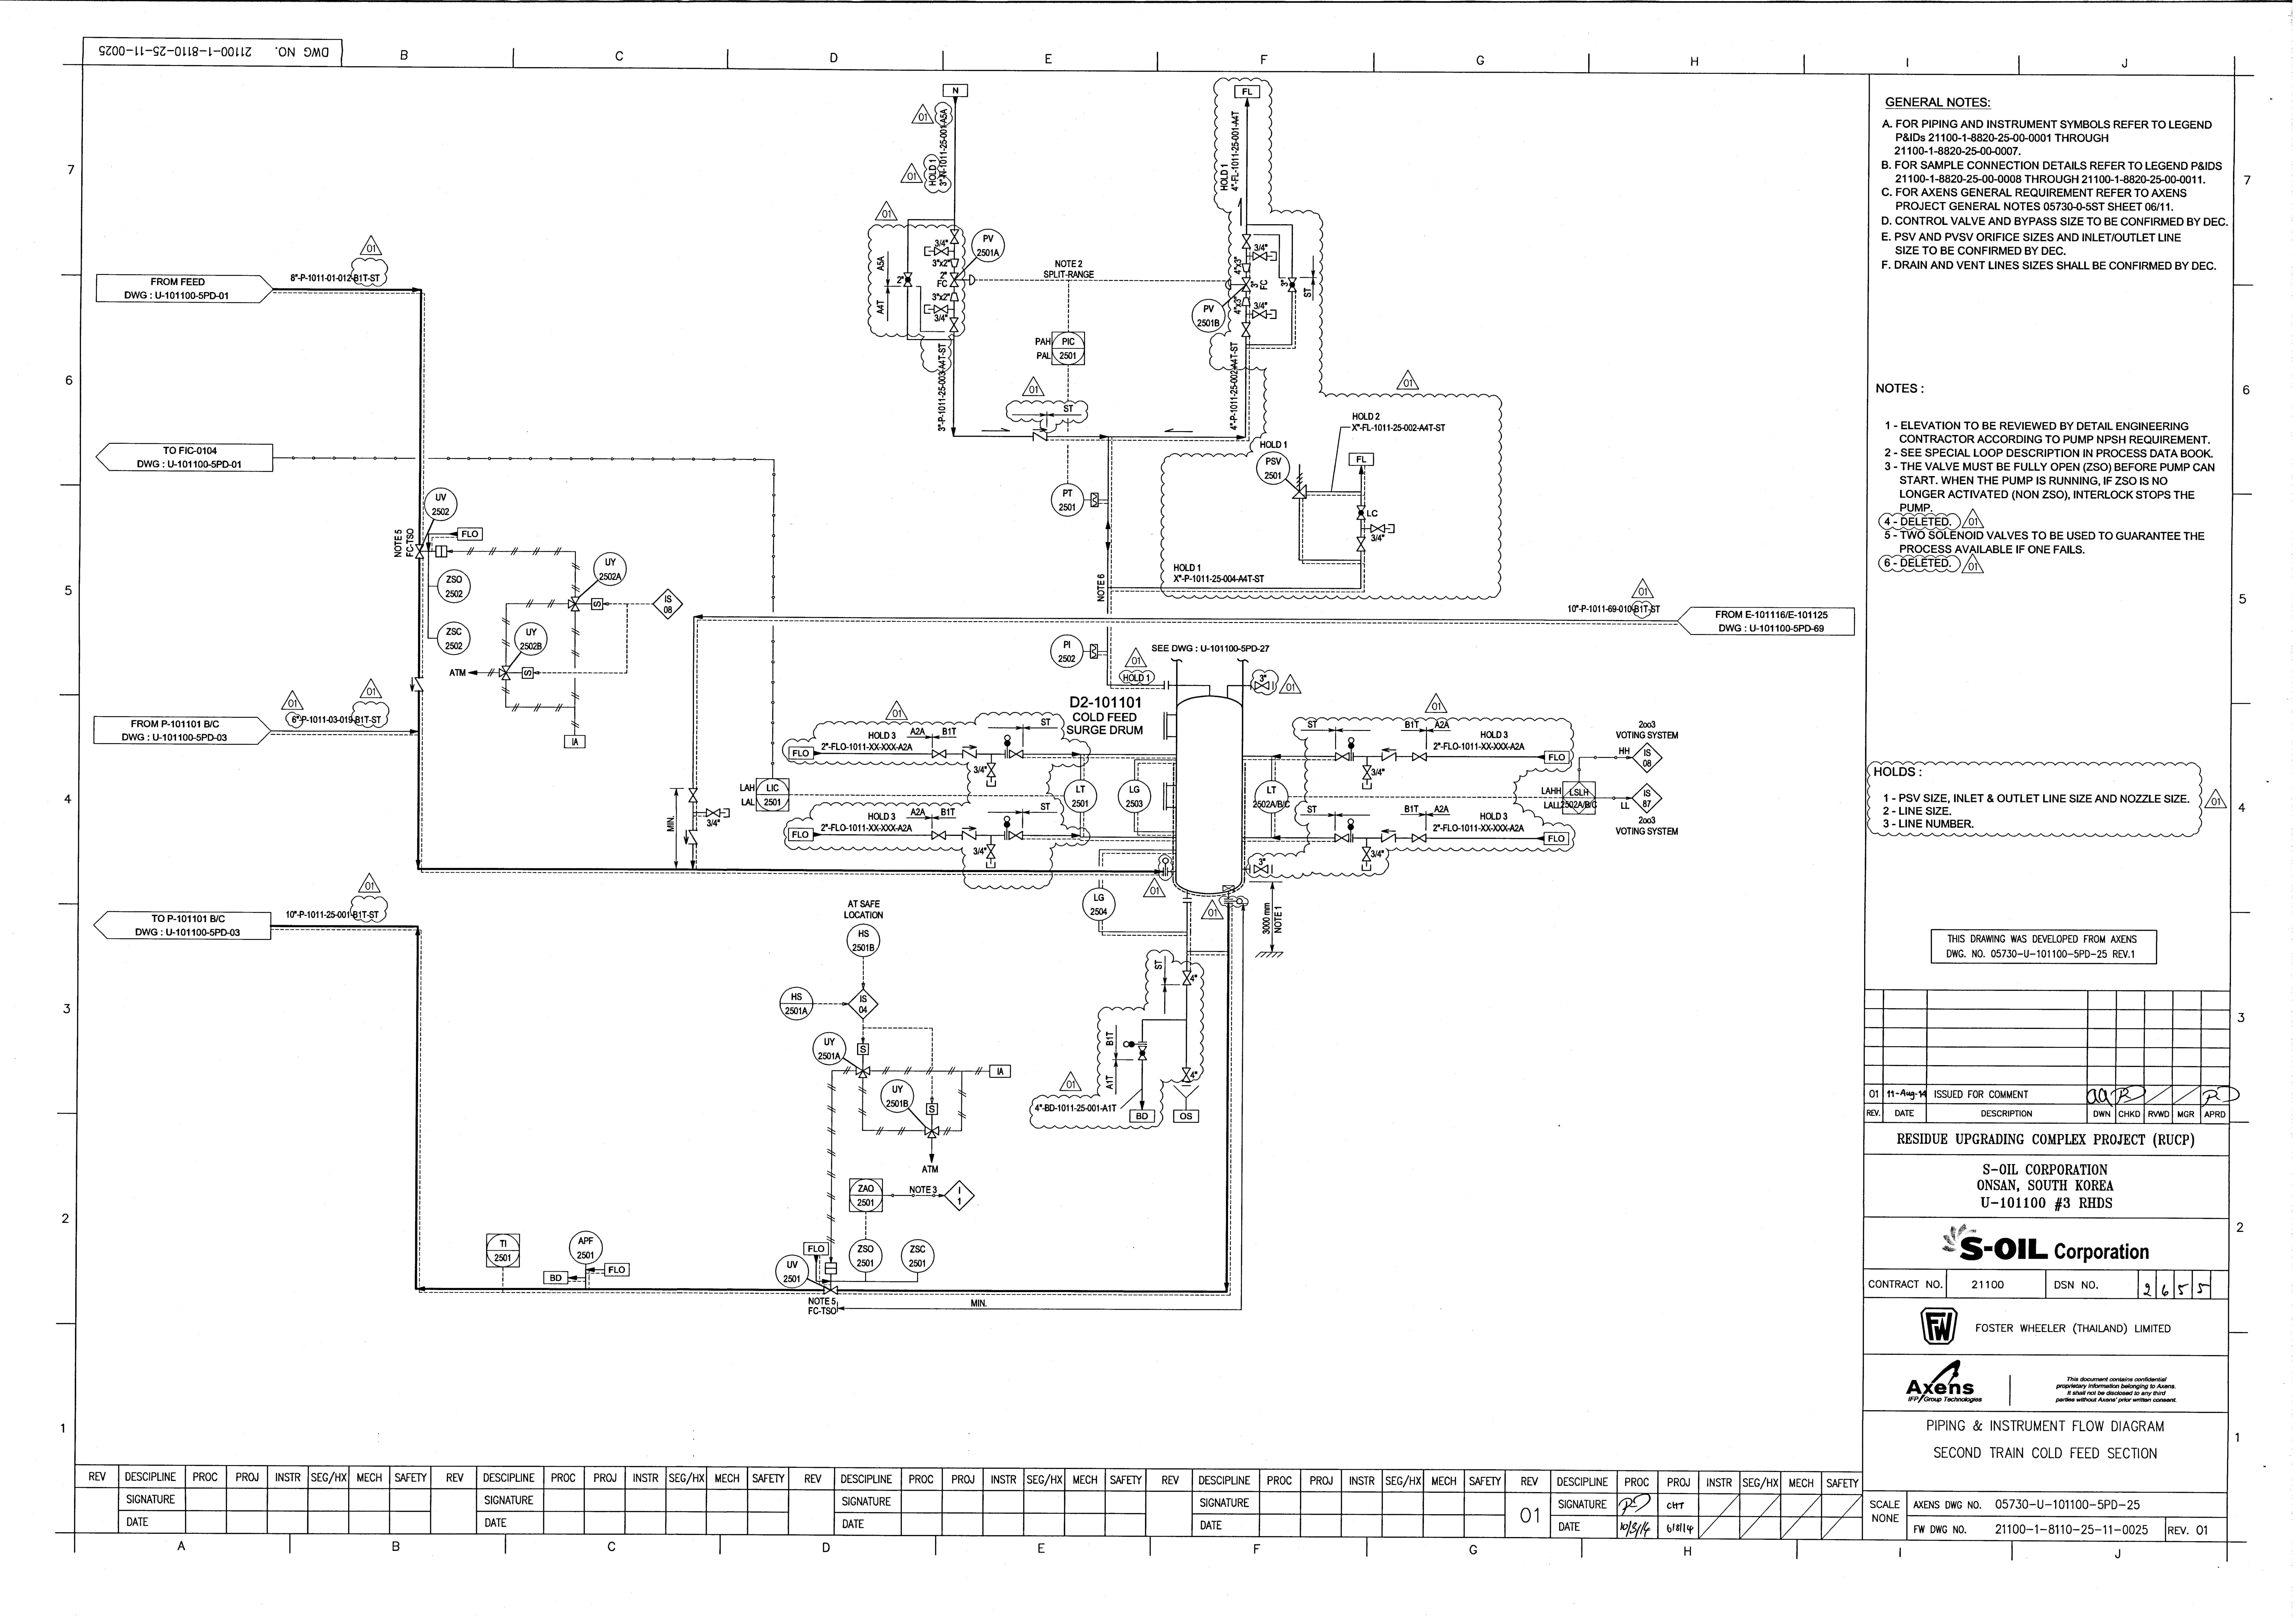NAS: (919, 1101, 942, 1140), (853, 1042, 874, 1080), (566, 595, 606, 615), (415, 541, 452, 562), (821, 1261, 841, 1298), (683, 828, 701, 848), (960, 825, 977, 842), (961, 744, 979, 760), (1030, 429, 1051, 441), (1039, 410, 1056, 420), (1270, 308, 1278, 320), (1028, 385, 1039, 394), (1044, 433, 1054, 441), (984, 862, 997, 869)
butterfly90: (1180, 1066, 1191, 1084), (1356, 504, 1366, 522), (1287, 277, 1298, 294), (904, 271, 912, 289), (1138, 1045, 1147, 1061)
reduce270: (949, 257, 960, 268), (1242, 263, 1252, 273)
reduce90: (1242, 296, 1252, 306), (949, 292, 960, 301)
valvecontrol0: (949, 271, 977, 289)
valvecontrol180: (1224, 277, 1252, 294)
valvegate0: (1250, 250, 1270, 263), (1250, 308, 1270, 320), (930, 748, 947, 760), (1412, 751, 1429, 763), (1410, 832, 1427, 844), (933, 245, 951, 257), (933, 303, 949, 315), (704, 807, 722, 818), (930, 830, 947, 841), (1007, 830, 1025, 841), (1252, 863, 1270, 874), (1333, 751, 1350, 762), (1370, 524, 1387, 534), (1009, 749, 1025, 760), (1333, 834, 1350, 842)
valvegate90: (1361, 763, 1373, 781), (1240, 320, 1252, 338), (688, 786, 699, 805), (1180, 970, 1193, 986), (986, 842, 997, 860), (986, 762, 997, 779), (1361, 846, 1371, 863), (1356, 536, 1366, 553), (949, 228, 960, 245), (1242, 233, 1252, 250), (949, 317, 960, 333)
